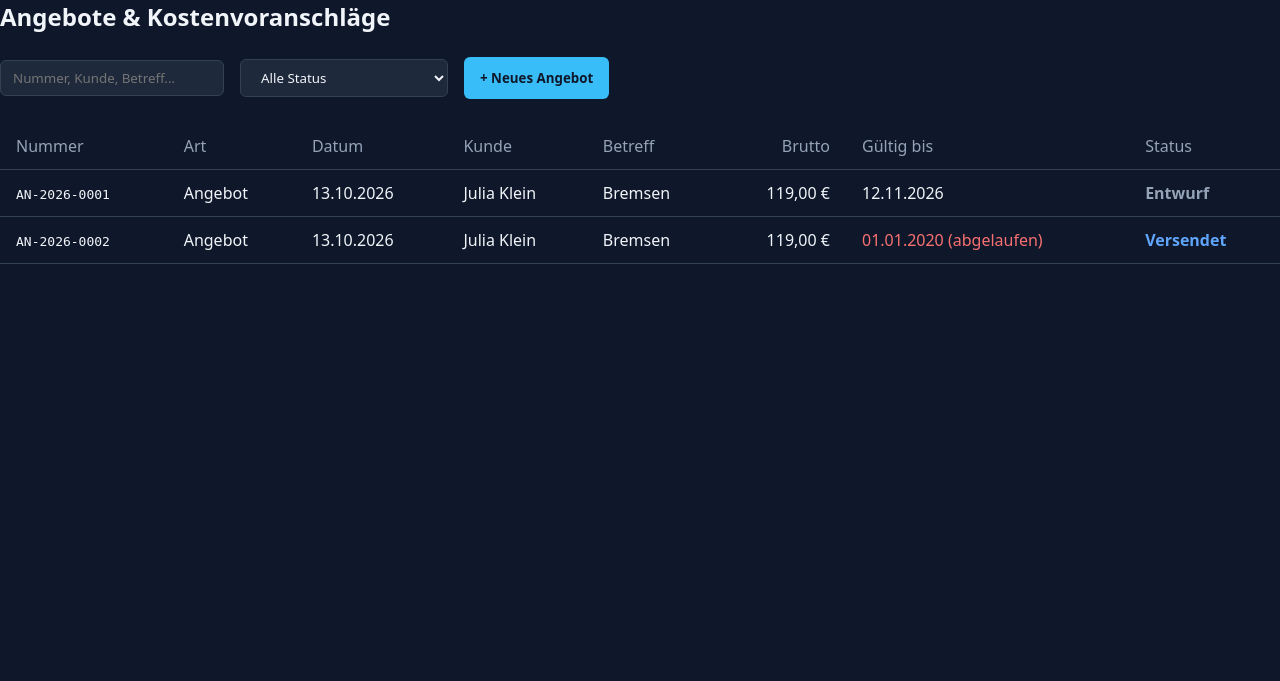
Angebote – Formular › verlangt einen Kunden
Expected: the text "AN-2026-0001" is shown, top-left (16, 187), bottom-right (110, 202)
Step 1. Click the button "+ Neues Angebot" → (537, 78), box top-left (464, 57), bottom-right (609, 99)
(page scrolled)
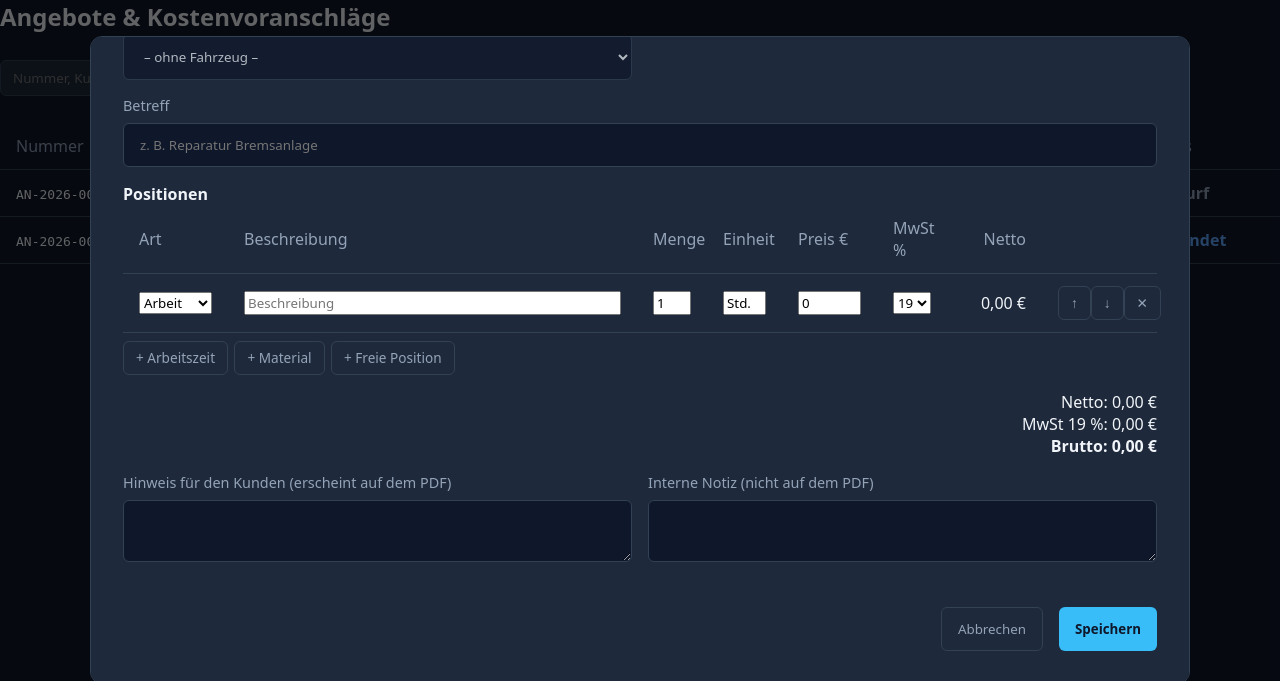
# Pflichtfeld-Prüfung des Browsers verhindert das Absenden
Step 2. Click the button "Speichern" → (1108, 629), box top-left (1059, 607), bottom-right (1157, 651)
(page scrolled)
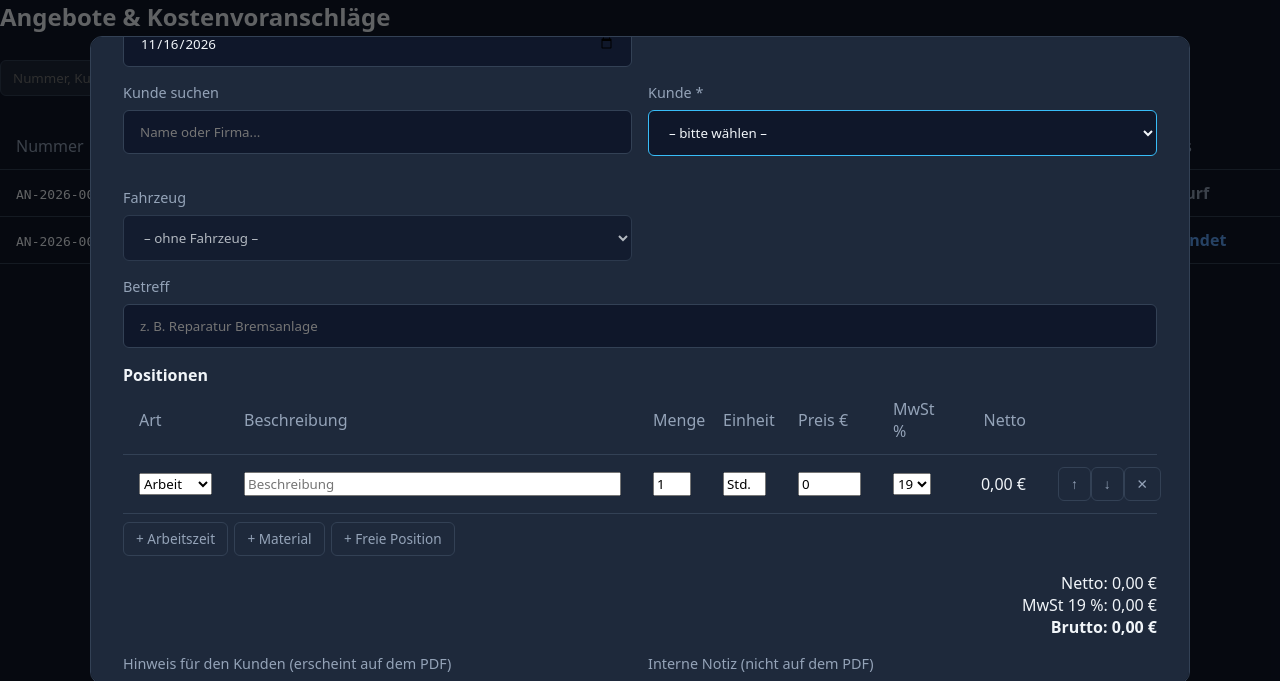
# Zusätzliche Prüfung in WareVision (falls die Browser-Prüfung umgangen wird)
Step 3. Submit the form named "Speichern"
(page scrolled)
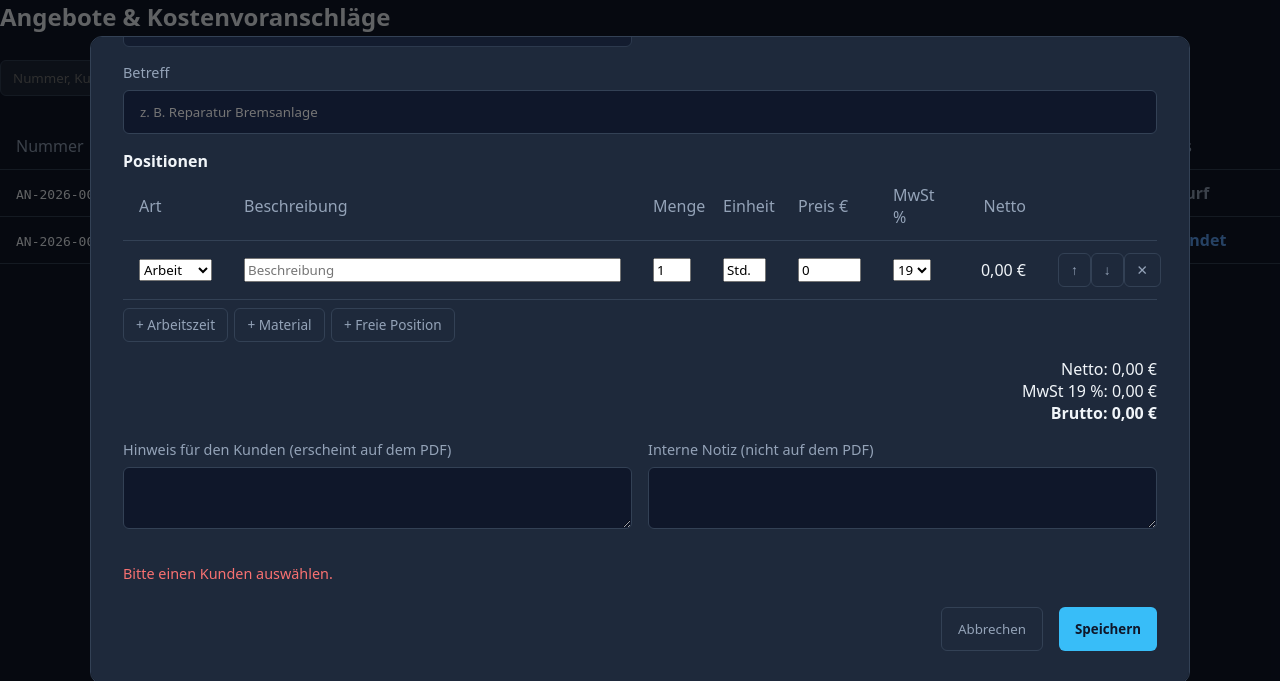
Expected: the text "Bitte einen Kunden auswählen." is shown, top-left (123, 564), bottom-right (333, 583)
